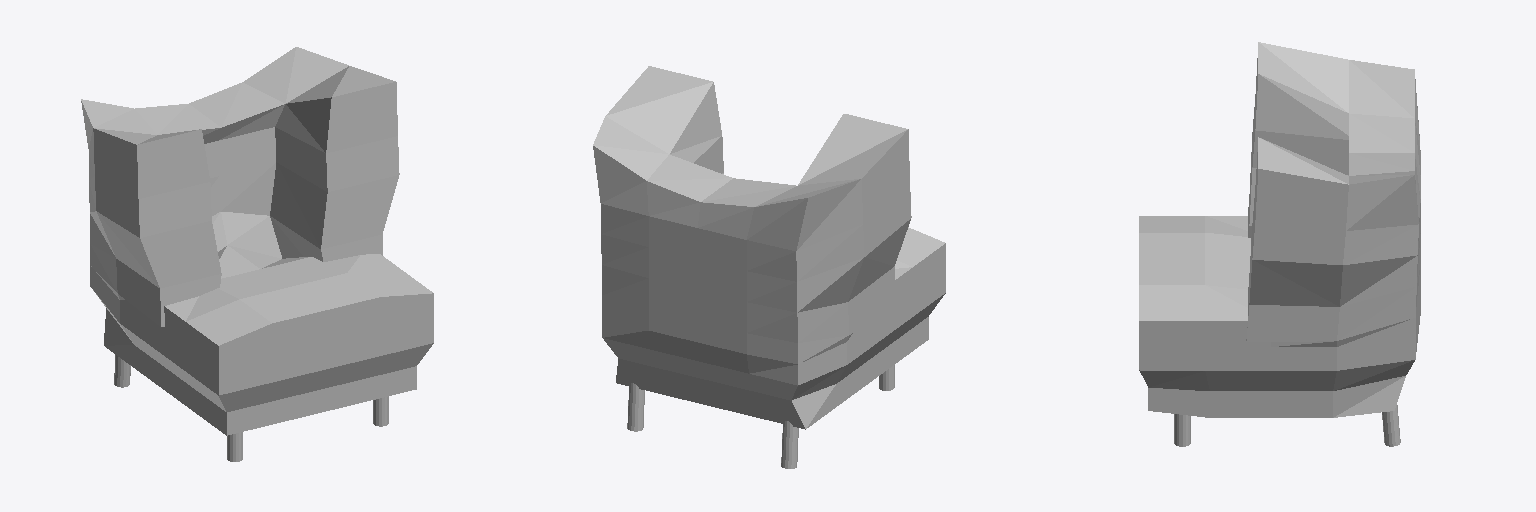
The model's file is SurfaceChairLab3.obj.
The picture shows the model from 3 angles: view 1: azimuth 30°, elevation 25°; view 2: azimuth 150°, elevation 25°; view 3: azimuth 270°, elevation 25°; orthographic projection.
Visible parts, largest first — view 1: pCube2; view 2: pCube2; view 3: pCube2.
Boxes of the visible parts, x1=… form: pCube2: x1=81, y1=47, x2=433, y2=461; pCube2: x1=593, y1=66, x2=945, y2=468; pCube2: x1=1139, y1=42, x2=1420, y2=446.
Bounding box in the file's own units: 5.52 × 6.12 × 5.18.